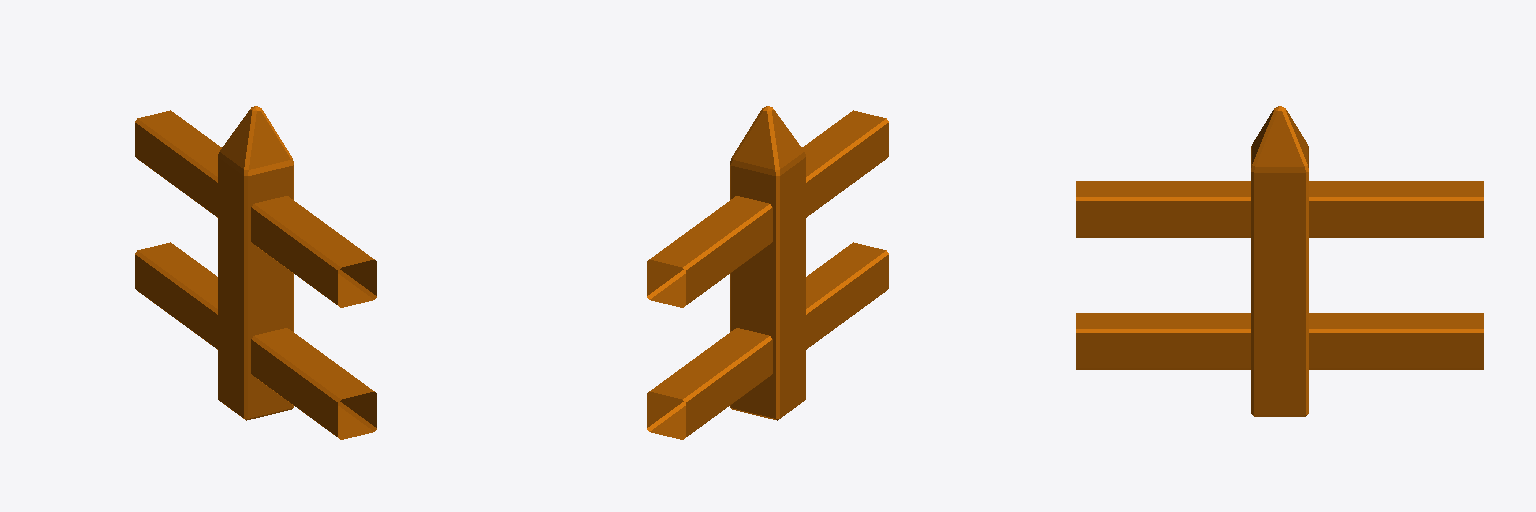
The model's file is Fence_01.obj.
The picture shows the model from 3 angles: view 1: azimuth 30°, elevation 25°; view 2: azimuth 150°, elevation 25°; view 3: azimuth 270°, elevation 25°; orthographic projection.
Visible parts, largest first — view 1: Fence_01_Cube; view 2: Fence_01_Cube; view 3: Fence_01_Cube.
Part boxes in pixels (left/top/right/bottom): Fence_01_Cube: left=135, top=106, right=376, bottom=439; Fence_01_Cube: left=647, top=106, right=888, bottom=439; Fence_01_Cube: left=1076, top=106, right=1483, bottom=416.
Size of the model in its own units: 0.3287 by 1.86 by 2.29.